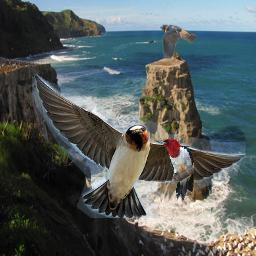Swallow: (32, 72, 246, 218), (160, 23, 198, 59)
Woodpecker: (155, 138, 194, 201)
